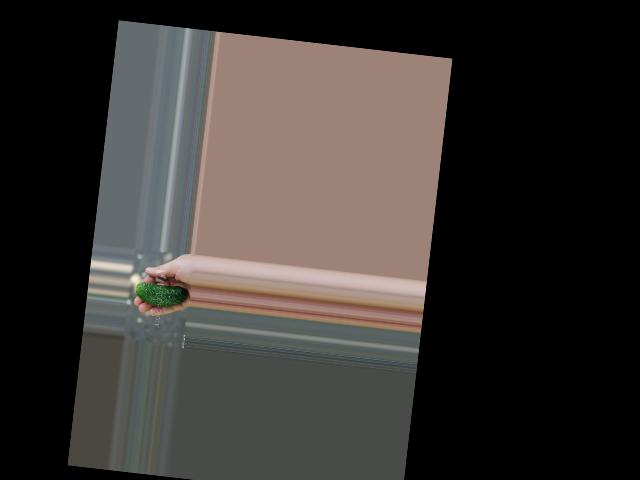cucumber: (134, 281, 188, 309)
